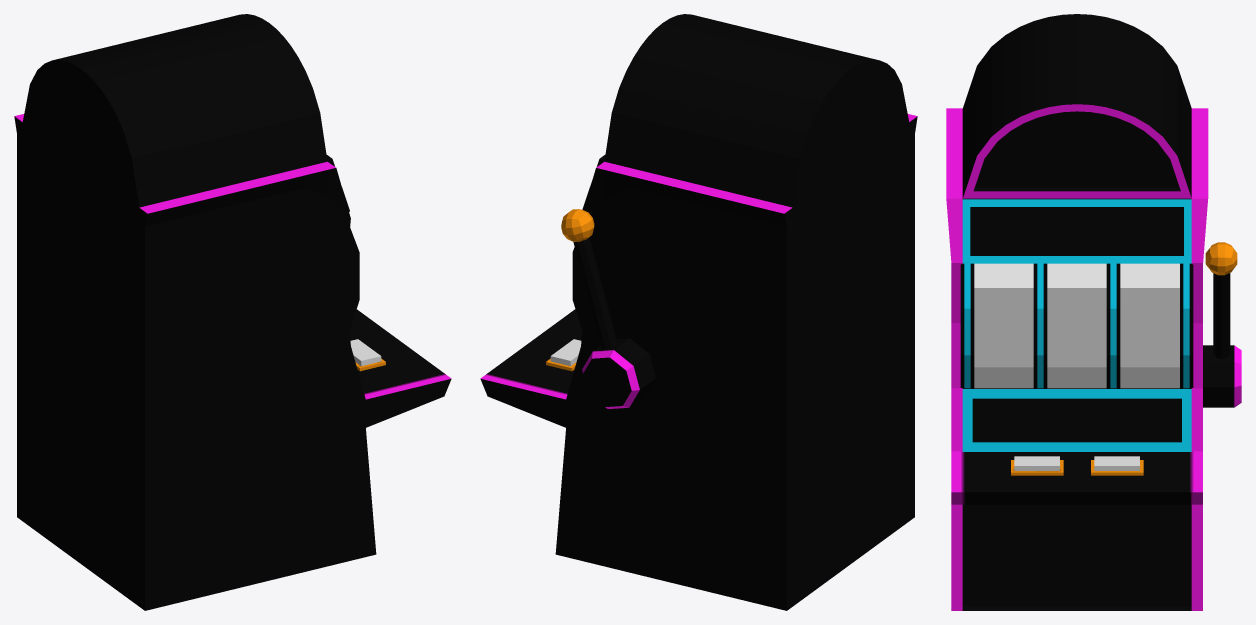
Rendered from slotMachine.fbx.
The picture shows the model from 3 angles, left to right: view 1: azimuth 30°, elevation 25°; view 2: azimuth 150°, elevation 25°; view 3: azimuth 270°, elevation 25°; orthographic projection.
Parts seen in each view (by area): view 1: Machine; view 2: Machine, Lever; view 3: Machine, CylinderLeft, CylinderMiddle, CylinderRight, Lever, LeftButton, RightButton.
Part boxes in pixels (box(x1,y1,x2,y2)): Machine: box(14, 14, 451, 610); Machine: box(480, 14, 917, 610); Lever: box(561, 209, 655, 409); Machine: box(946, 14, 1208, 610); CylinderLeft: box(974, 263, 1033, 388); CylinderMiddle: box(1047, 263, 1106, 388); CylinderRight: box(1120, 263, 1179, 388); Lever: box(1203, 242, 1241, 407); LeftButton: box(1014, 456, 1059, 470); RightButton: box(1094, 456, 1139, 470).
Bounding box in the file's own units: 3.04 × 4.7 × 2.58.
Materials: 2 (2 with a texture image).
